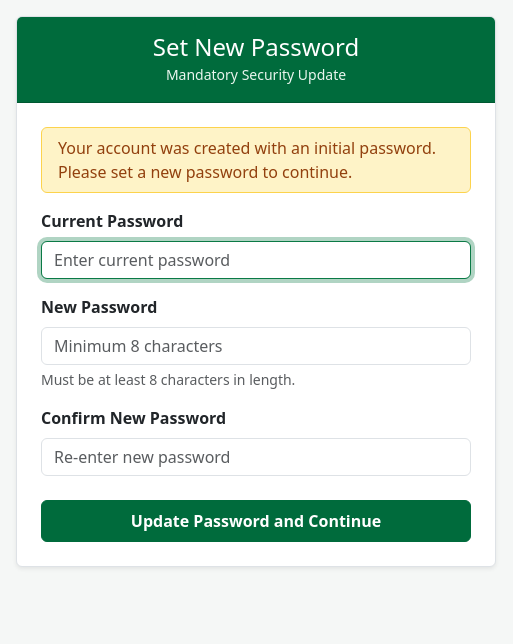
Test: UI-PASS-01: Change Password Component › validates that new password and confirm password match
Type "Password123!" into the password field labelled "Current Password" at (256, 260), box [41,241,471,279]
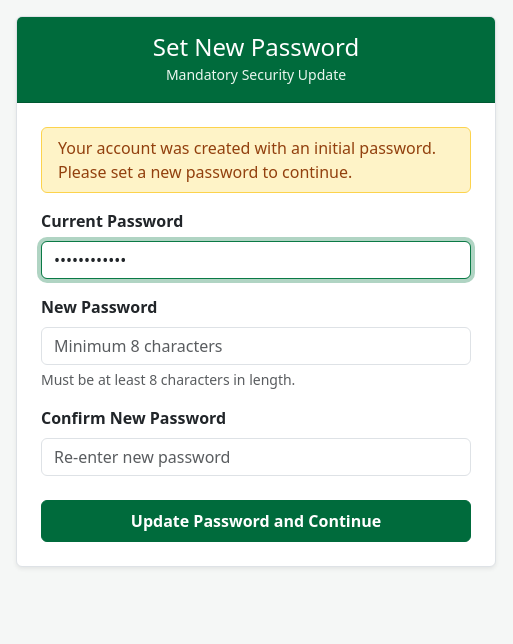
Type "Password456!" into the password field labelled "New Password" at (256, 346), box [41,327,471,365]
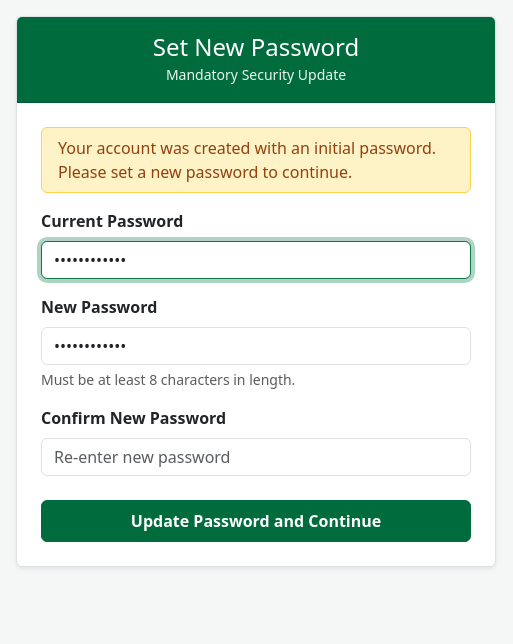
Type "MismatchPassword789!" into the password field labelled "Confirm New Password" at (256, 457), box [41,438,471,476]
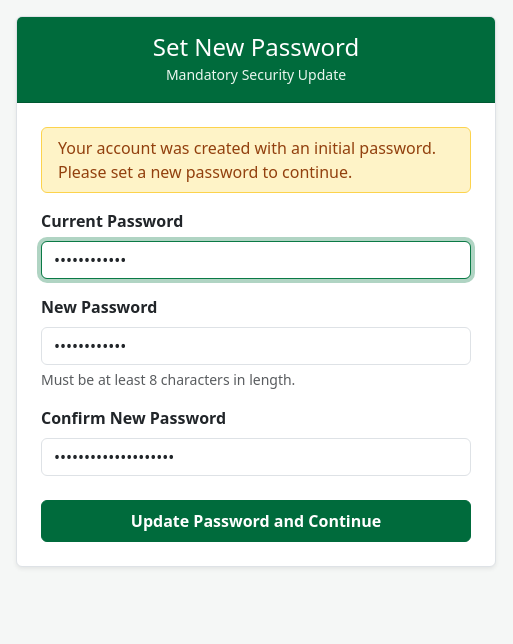
Click the button "Update Password and Continue" at (256, 521), box [41,500,471,542]
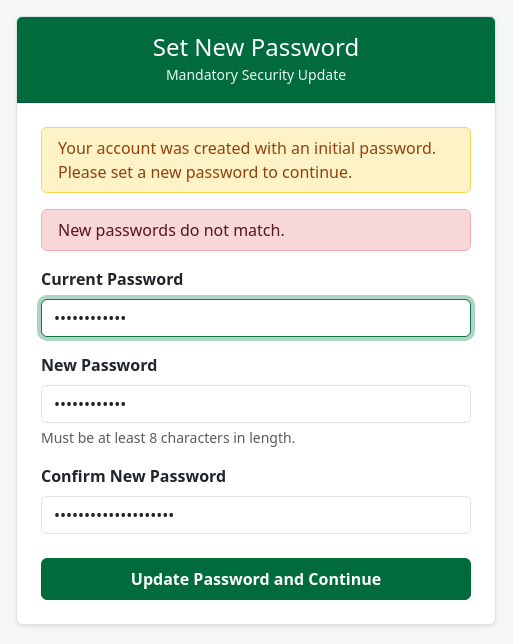
Now the text "New passwords do not match." is shown, box [41,209,471,251]
